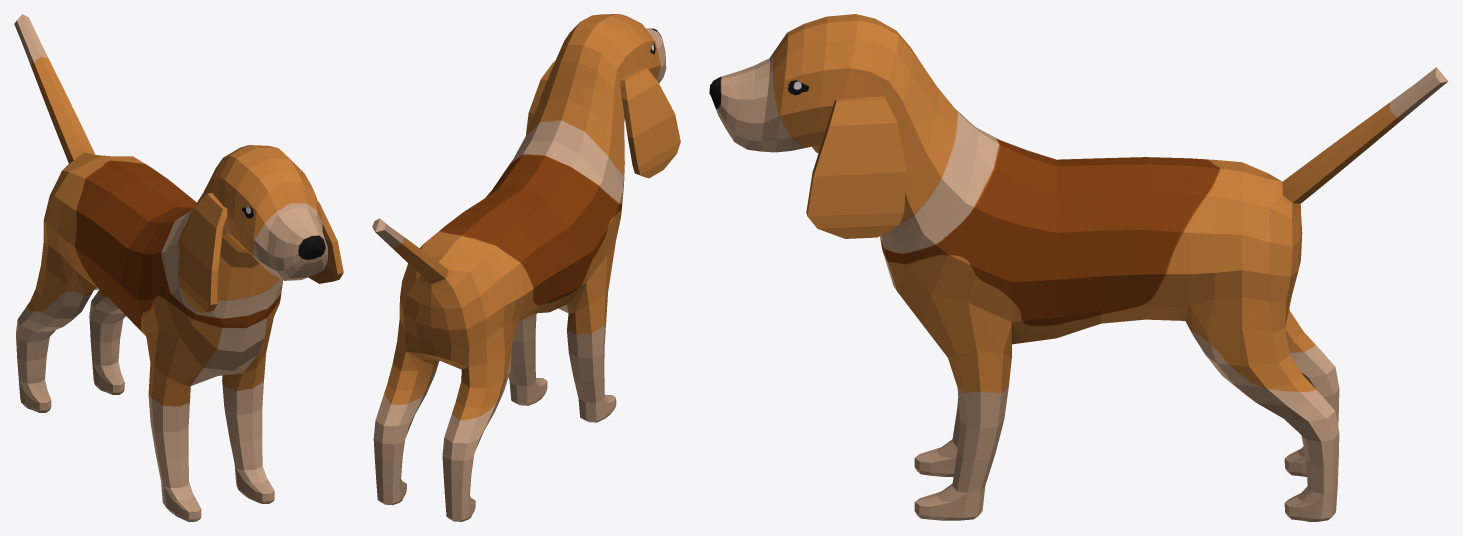
The model's file is lowpoly.glb.
The picture shows the model from 3 angles, left to right: view 1: azimuth 30°, elevation 25°; view 2: azimuth 150°, elevation 25°; view 3: azimuth 270°, elevation 25°; orthographic projection. The views are drawn at different scales.
Parts seen in each view (by area): view 1: GLTF_created_0; view 2: GLTF_created_0; view 3: GLTF_created_0.
Part boxes in pixels (x1=…): GLTF_created_0: x1=14, y1=14, x2=343, y2=521; GLTF_created_0: x1=372, y1=14, x2=680, y2=521; GLTF_created_0: x1=709, y1=14, x2=1448, y2=521.
Bounding box in the file's own units: 1.14 × 3.14 × 4.45.
Materials: 1 (1 with a texture image).
